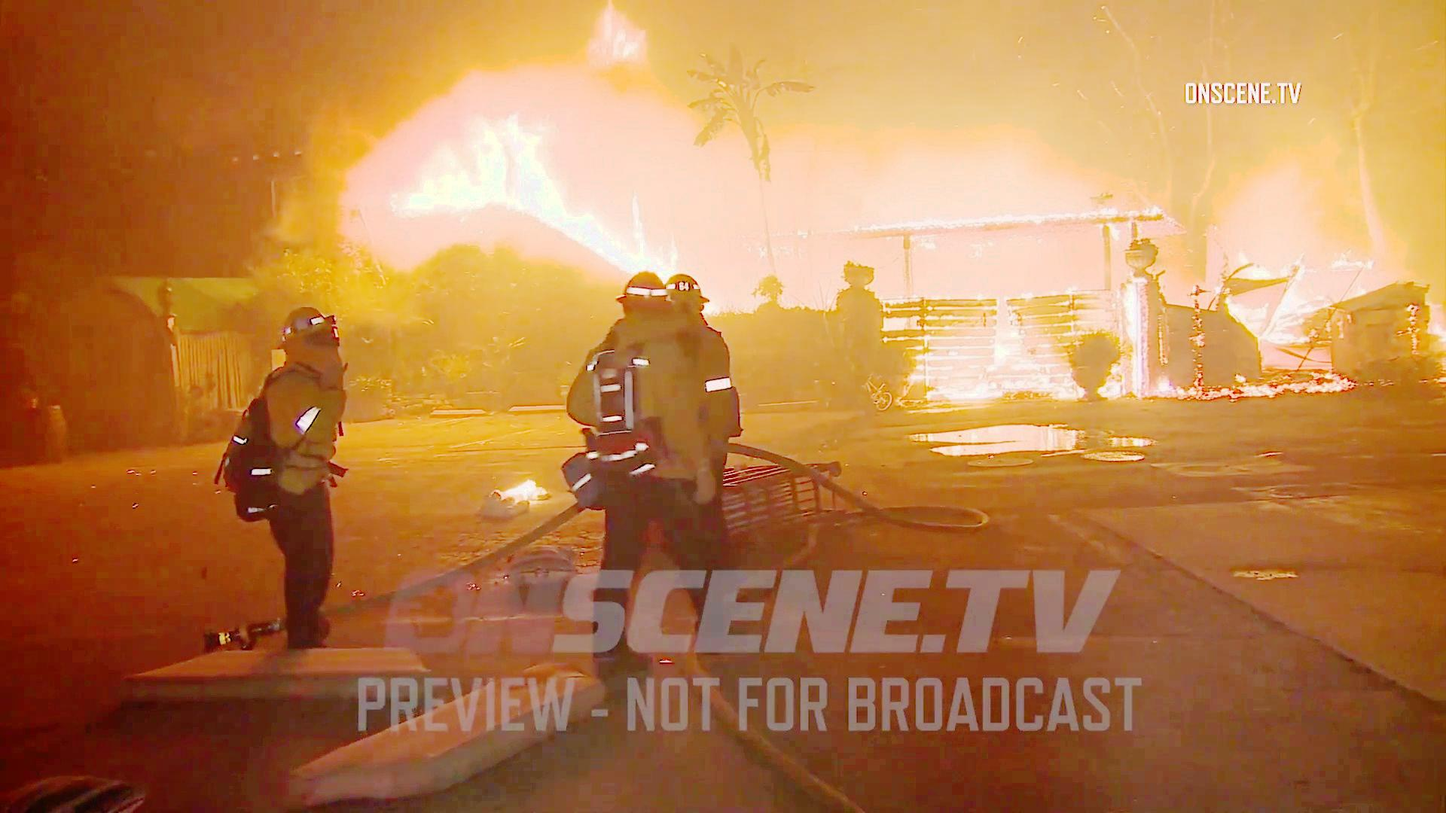fire: (394, 123, 561, 226), (909, 330, 1089, 396), (1217, 251, 1312, 338)
